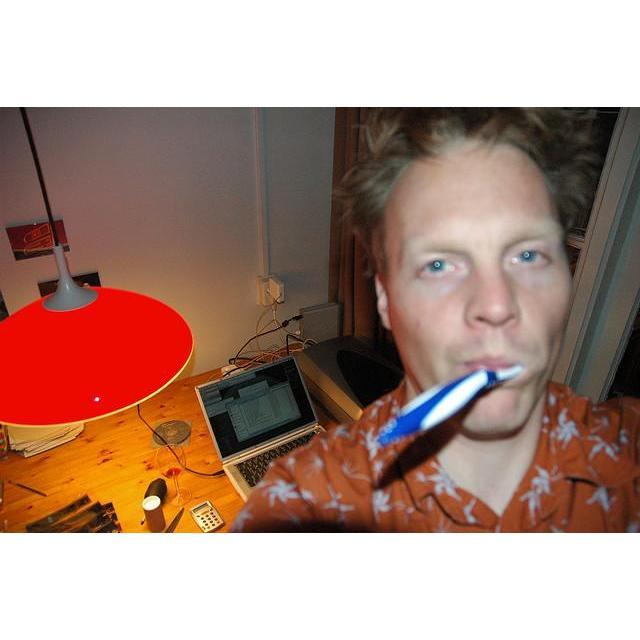toothbrush: (378, 368, 500, 444), (156, 442, 192, 508), (142, 496, 166, 534)
